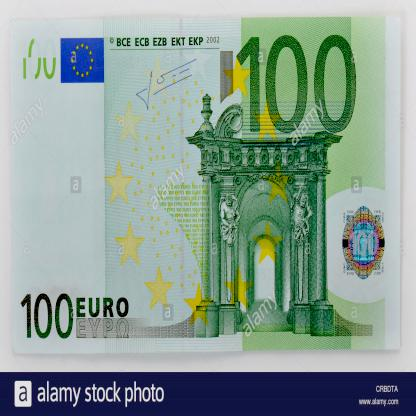euro_banknote: (10, 17, 402, 352)
